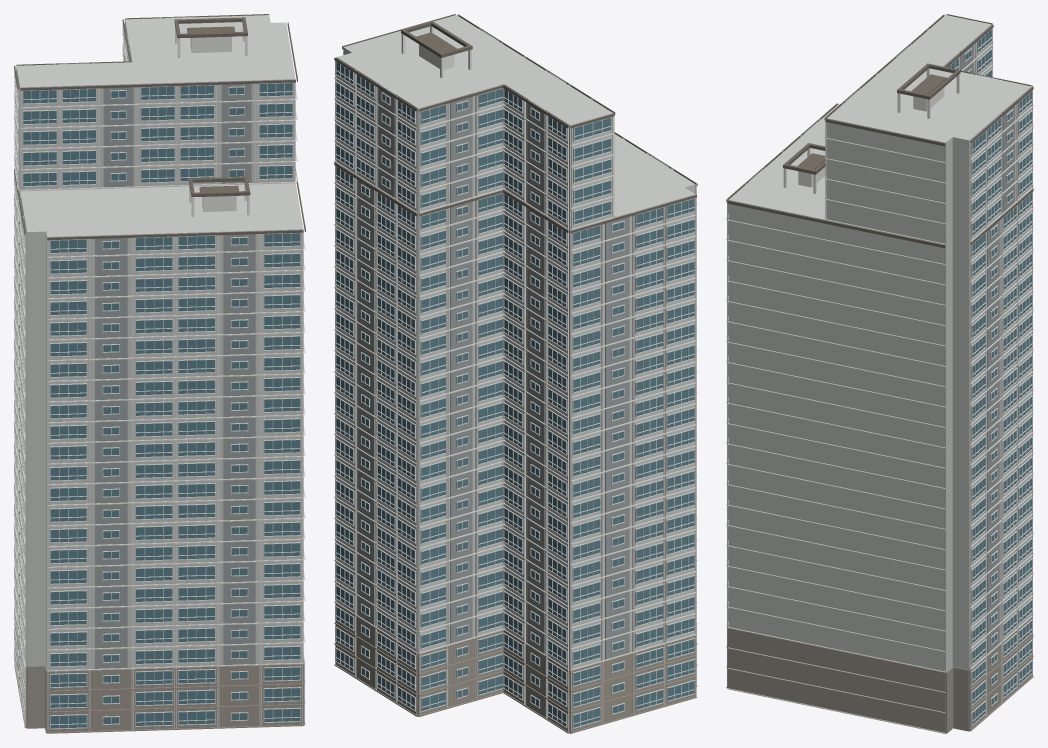
File: bespoke-banpo-xi-121.glb
The picture shows the model from 3 angles, left to right: view 1: azimuth 30°, elevation 25°; view 2: azimuth 150°, elevation 25°; view 3: azimuth 270°, elevation 25°; orthographic projection. The views are drawn at different scales.
Parts seen in each view (by area): view 1: editable_BX121_pale_silver_limestone, editable_BX121_blue_grey_broad_glazing, editable_BX121_white_window_frames, editable_BX121_ivory_course_bands, editable_BX121_grey_service_core, editable_BX121_warm_ground_stone, editable_BX121_dark_coping; view 2: editable_BX121_blue_grey_broad_glazing, editable_BX121_pale_silver_limestone, editable_BX121_white_window_frames, editable_BX121_ivory_course_bands, editable_BX121_grey_service_core, editable_BX121_warm_ground_stone, editable_BX121_dark_coping; view 3: editable_BX121_pale_silver_limestone, editable_BX121_ivory_course_bands, editable_BX121_warm_ground_stone, editable_BX121_white_window_frames, editable_BX121_blue_grey_broad_glazing, editable_BX121_grey_service_core, editable_BX121_dark_coping.
Part boxes in pixels (x1,y1,x2,y2): editable_BX121_pale_silver_limestone: (16, 15, 303, 670); editable_BX121_blue_grey_broad_glazing: (15, 23, 300, 728); editable_BX121_white_window_frames: (14, 22, 300, 729); editable_BX121_ivory_course_bands: (14, 14, 305, 732); editable_BX121_grey_service_core: (18, 17, 255, 668); editable_BX121_warm_ground_stone: (14, 623, 304, 733); editable_BX121_dark_coping: (14, 14, 305, 240); editable_BX121_blue_grey_broad_glazing: (336, 62, 694, 727); editable_BX121_pale_silver_limestone: (336, 15, 695, 732); editable_BX121_white_window_frames: (335, 61, 695, 728); editable_BX121_ivory_course_bands: (334, 14, 697, 733); editable_BX121_grey_service_core: (358, 30, 669, 659); editable_BX121_warm_ground_stone: (334, 603, 697, 733); editable_BX121_dark_coping: (334, 14, 697, 233); editable_BX121_pale_silver_limestone: (728, 15, 1031, 672); editable_BX121_ivory_course_bands: (726, 14, 1033, 733); editable_BX121_warm_ground_stone: (726, 617, 1033, 733); editable_BX121_white_window_frames: (728, 28, 1032, 725); editable_BX121_blue_grey_broad_glazing: (948, 29, 1031, 724); editable_BX121_grey_service_core: (748, 40, 1014, 653); editable_BX121_dark_coping: (726, 14, 1033, 248).
Bounding box in the file's own units: 41.96 × 81.3 × 36.96.
